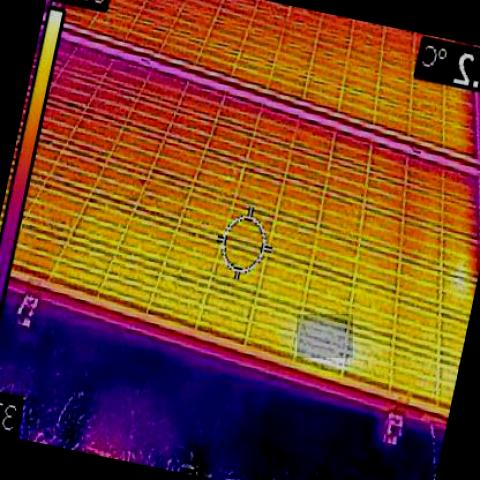fault: (297, 314, 353, 358)
